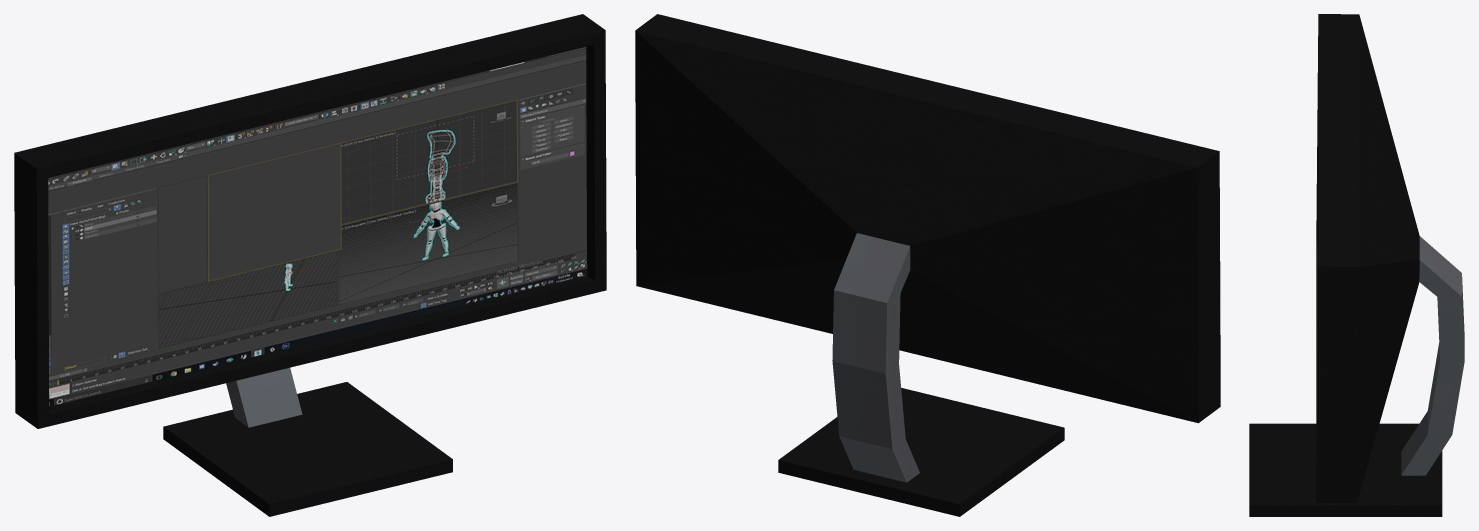
File: Monitor.FBX
3 views of the same model, side by side, from view 1: azimuth 30°, elevation 25°; view 2: azimuth 150°, elevation 25°; view 3: azimuth 270°, elevation 25° (orthographic). The views are drawn at different scales.
Visible parts, largest first — view 1: PC Monitor; view 2: PC Monitor; view 3: PC Monitor.
Part boxes in pixels (x1,y1,x2,y2): PC Monitor: (14, 14, 606, 516); PC Monitor: (635, 14, 1220, 516); PC Monitor: (1249, 14, 1464, 516).
Bounding box in the file's own units: 36.59 × 22.61 × 13.18.
Materials: 1 (1 with a texture image).
